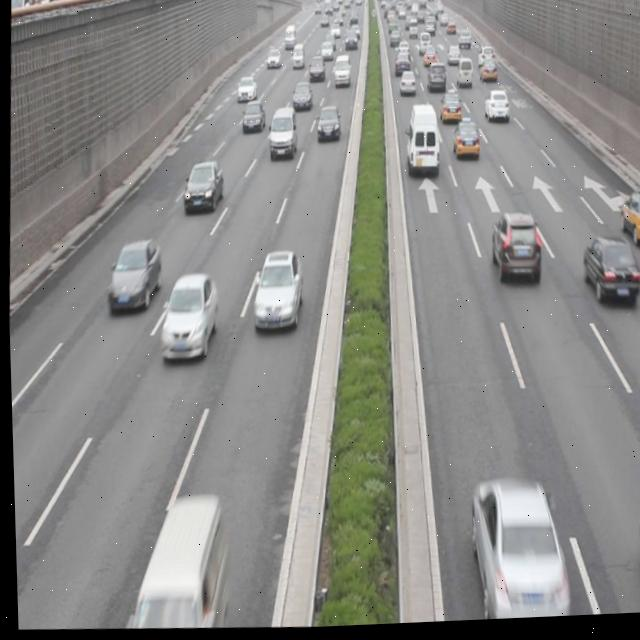car: (461, 485, 564, 624), (158, 275, 215, 359), (248, 251, 300, 336), (579, 237, 635, 310), (487, 214, 539, 287), (105, 242, 159, 307), (180, 161, 223, 214), (616, 188, 640, 254), (267, 110, 295, 159), (450, 122, 476, 167), (480, 90, 508, 129), (315, 107, 341, 144), (240, 101, 265, 136), (438, 92, 460, 127), (290, 82, 310, 113)
truck: (129, 498, 221, 632), (402, 107, 439, 184)
